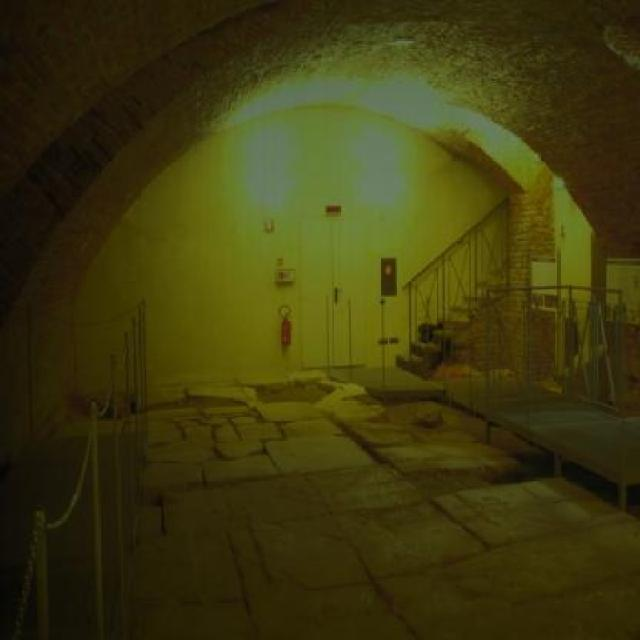stair: (394, 255, 511, 377)
